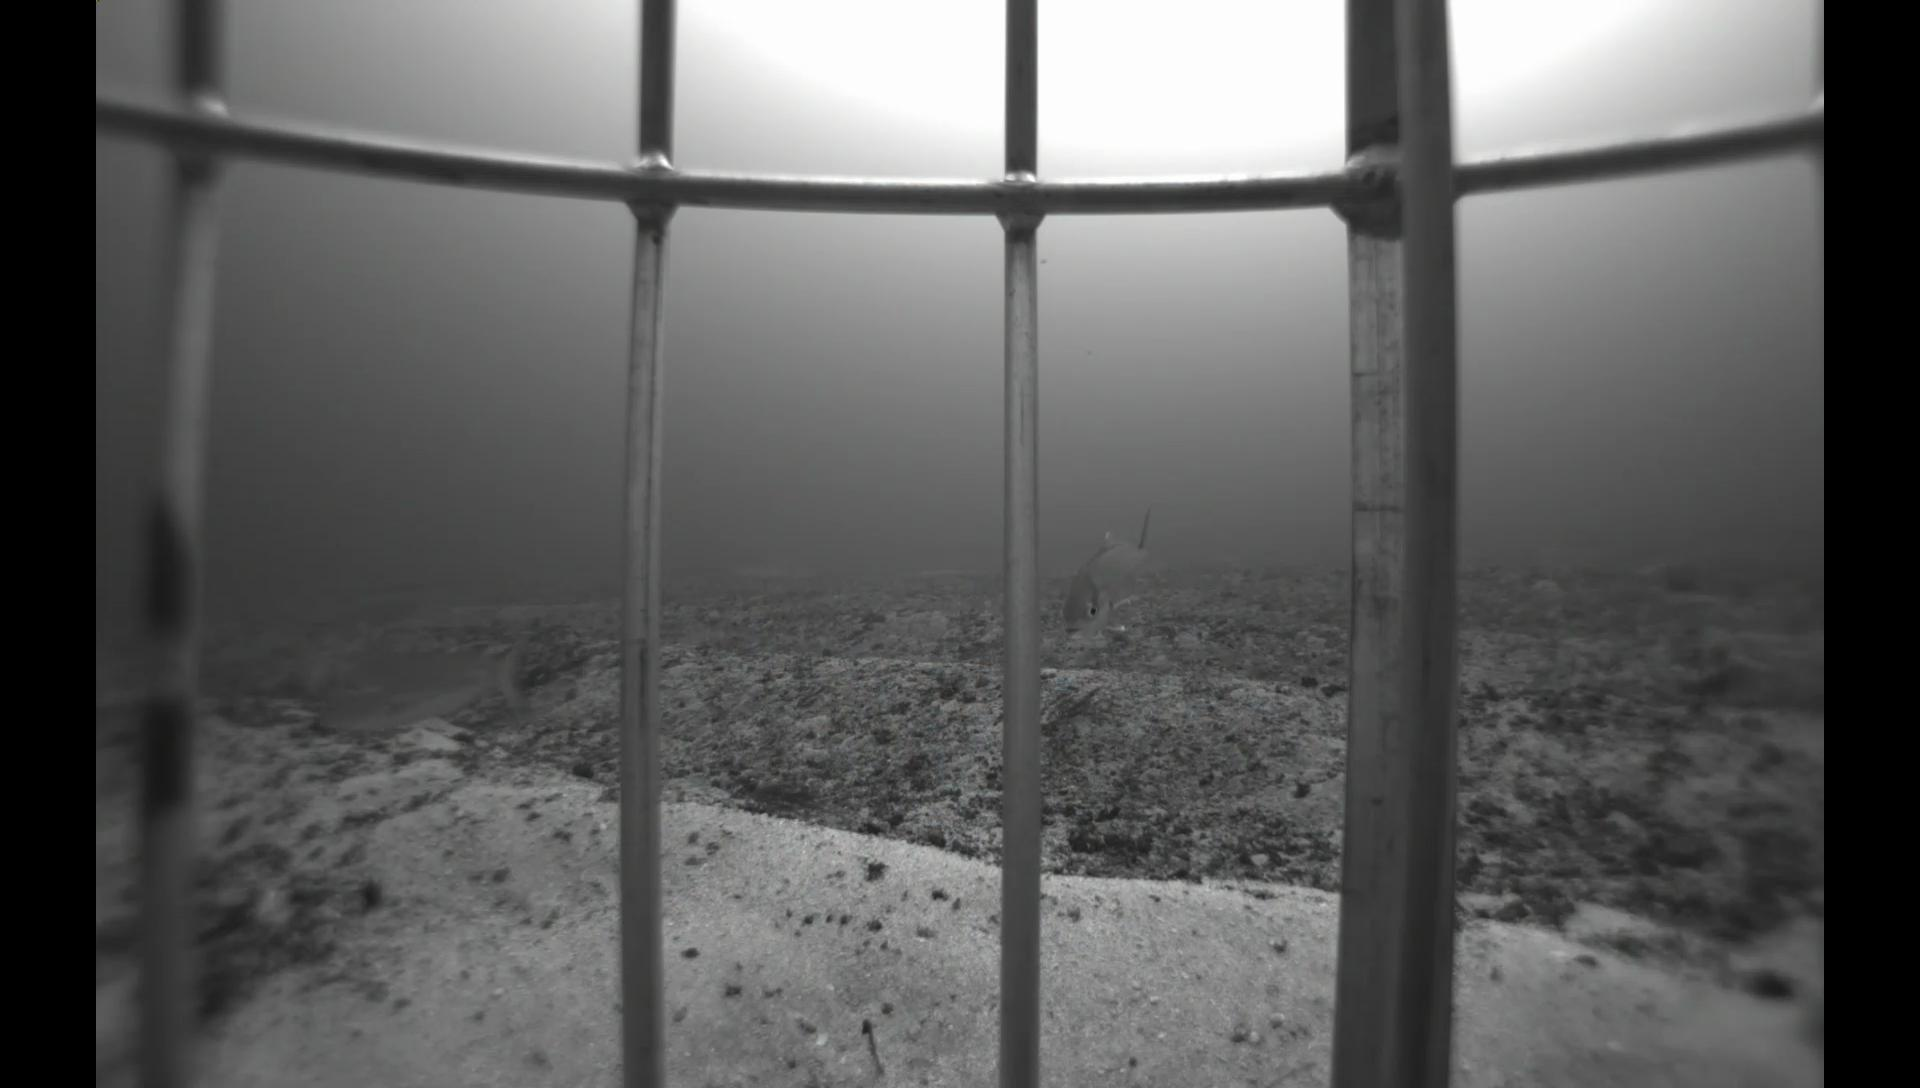CALAMUSPRORIDENS-170210605: (313, 628, 538, 737)
RHOMBOPLITESAURORUBENS-170152001: (1778, 980, 1826, 1073)
SERIOLAFASCIATA-170113103: (1043, 488, 1160, 651)
